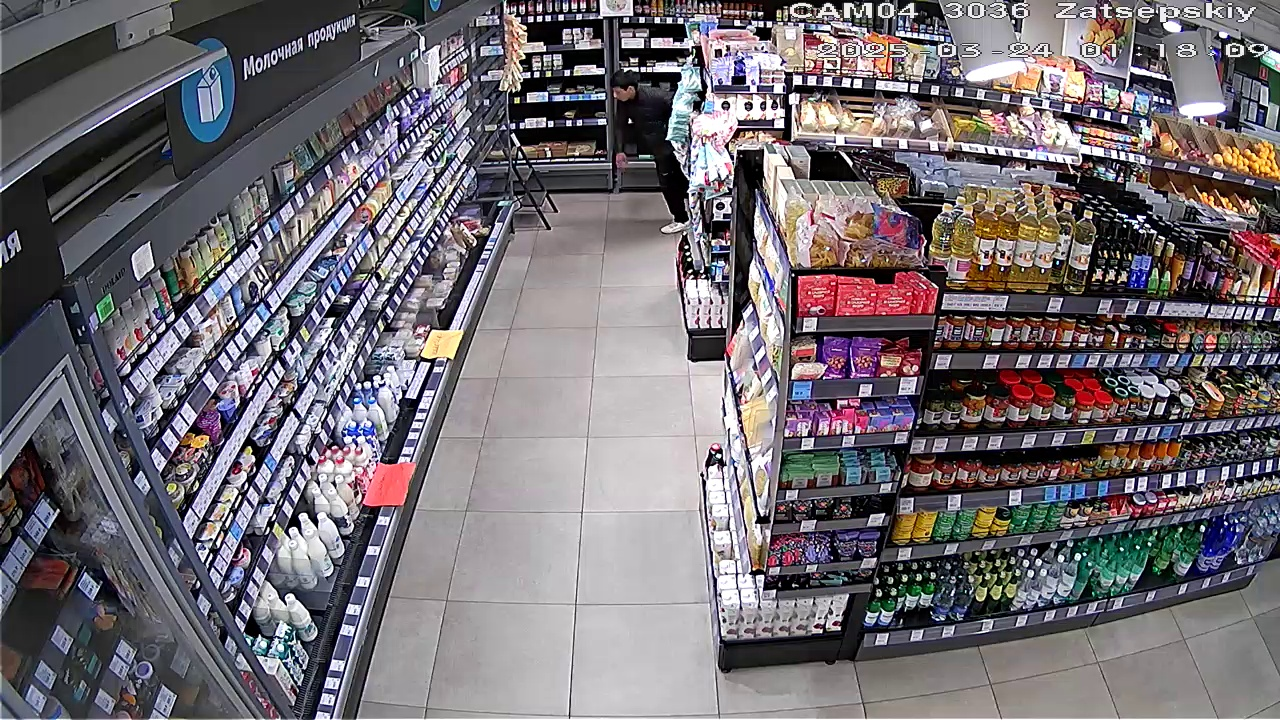Human: (589, 70, 708, 237)
